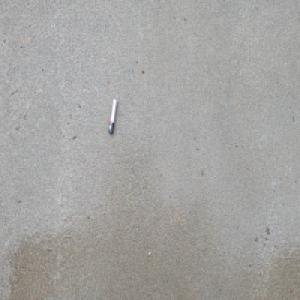Battery: (108, 97, 118, 135)
